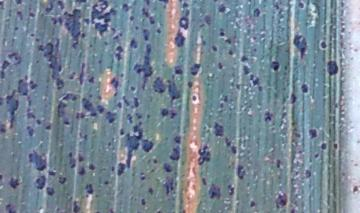tarspot: (1, 73, 39, 130), (36, 37, 66, 92), (49, 8, 83, 52), (124, 119, 154, 168), (88, 1, 117, 39), (132, 43, 154, 92), (152, 75, 182, 109), (55, 92, 76, 126), (26, 149, 48, 173), (76, 96, 96, 121), (292, 32, 309, 61), (196, 144, 212, 166), (273, 190, 289, 210), (223, 135, 238, 156), (206, 182, 222, 200), (173, 27, 186, 49), (324, 59, 339, 77), (153, 102, 169, 118), (164, 175, 176, 196), (108, 76, 119, 98), (7, 175, 23, 190), (7, 51, 23, 66), (213, 120, 226, 137), (169, 145, 182, 162), (77, 61, 86, 85), (1, 60, 11, 81), (66, 151, 77, 170), (104, 110, 117, 126), (113, 45, 125, 62), (42, 1, 56, 15), (34, 175, 46, 191), (248, 72, 260, 87), (116, 161, 127, 177), (236, 163, 246, 180), (161, 161, 174, 174), (120, 94, 132, 108), (70, 198, 81, 213), (181, 2, 192, 17), (203, 13, 213, 29), (269, 60, 281, 73), (307, 127, 319, 140), (189, 63, 201, 76), (178, 16, 190, 29), (3, 202, 17, 213), (217, 2, 228, 16), (226, 182, 236, 197), (172, 65, 185, 76), (14, 10, 25, 23), (263, 109, 273, 123), (141, 27, 151, 41), (83, 182, 94, 194), (76, 151, 86, 164), (25, 124, 35, 137), (55, 1, 68, 11), (77, 131, 91, 140), (45, 186, 56, 197), (300, 82, 310, 94), (56, 176, 69, 185), (129, 37, 138, 50), (132, 95, 141, 108), (125, 111, 134, 124), (198, 34, 207, 47), (159, 107, 169, 118), (121, 2, 131, 13), (147, 15, 157, 26), (76, 166, 87, 176), (80, 15, 91, 25), (319, 39, 328, 51), (289, 92, 298, 104), (241, 63, 250, 75), (67, 70, 76, 82), (274, 157, 282, 170), (157, 1, 170, 9), (303, 169, 313, 179), (350, 183, 360, 193), (168, 109, 178, 119), (87, 162, 97, 172), (96, 103, 105, 114), (1, 121, 8, 135), (253, 7, 261, 19), (199, 176, 208, 186), (173, 135, 183, 144), (210, 43, 219, 53), (139, 7, 149, 16), (223, 35, 232, 44), (320, 141, 328, 151), (248, 199, 256, 209), (139, 197, 147, 207), (46, 169, 56, 177), (271, 3, 281, 11), (240, 54, 249, 62), (128, 14, 136, 23), (87, 75, 95, 84), (26, 11, 35, 19), (297, 1, 305, 9), (331, 142, 339, 150), (146, 187, 154, 195), (129, 84, 137, 92), (44, 123, 52, 131), (34, 118, 42, 126), (135, 111, 143, 119), (72, 1, 88, 5), (80, 31, 88, 39), (234, 82, 242, 90), (186, 80, 193, 89), (115, 100, 122, 109), (117, 126, 124, 135), (1, 1, 7, 11), (107, 207, 117, 213), (227, 48, 234, 56), (139, 175, 147, 182), (152, 157, 159, 165), (118, 71, 125, 79), (13, 24, 20, 32), (116, 30, 124, 37), (110, 165, 117, 173), (106, 140, 113, 148), (191, 93, 197, 102), (217, 61, 223, 70), (219, 101, 225, 110), (103, 179, 110, 186), (218, 30, 225, 37), (33, 36, 40, 43), (133, 25, 140, 32), (222, 94, 229, 101), (15, 1, 23, 7), (155, 27, 161, 35), (142, 1, 151, 6), (97, 59, 103, 66), (251, 34, 258, 40), (198, 22, 205, 28), (153, 209, 163, 213), (313, 152, 319, 158), (102, 40, 108, 46), (87, 42, 93, 48), (1, 172, 4, 182), (29, 31, 34, 37), (252, 47, 258, 52), (177, 1, 185, 4), (94, 209, 100, 213)
